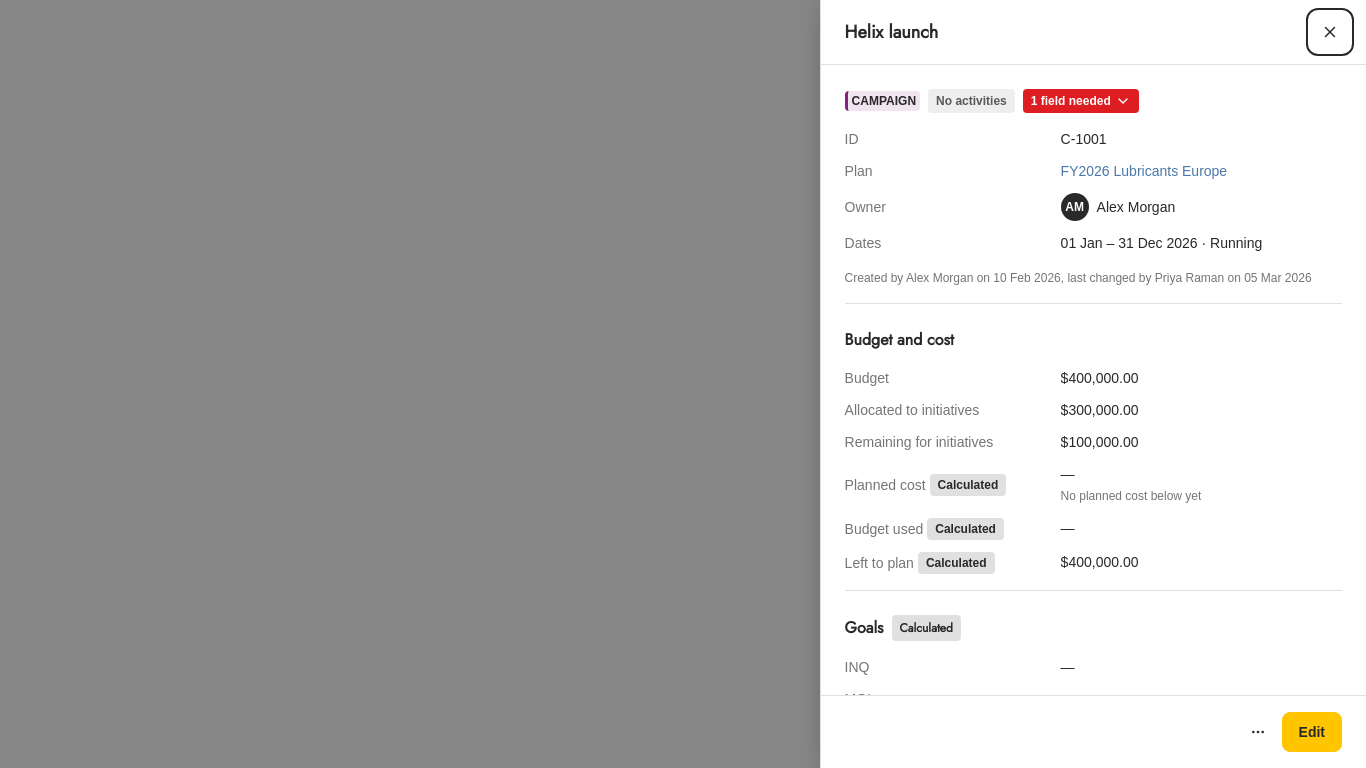
CampaignPanel — details (feature 005, US3) › links a needed field to the edit form with that field focused (FR-014)
Step 1. Click the button "1 field needed" → [1081, 101], box [1023,89,1139,113]
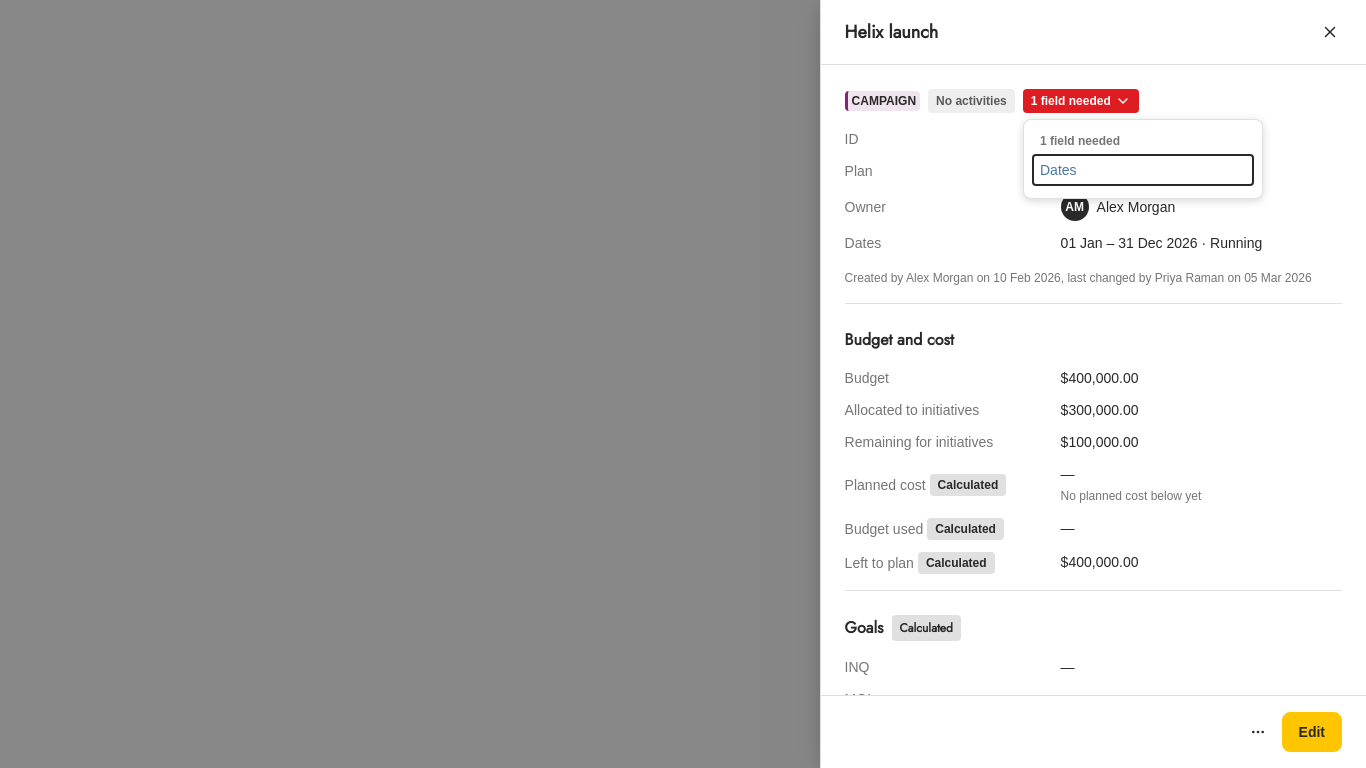
Step 2. Click the button "Dates" → [1143, 170], box [1032,154,1254,186]
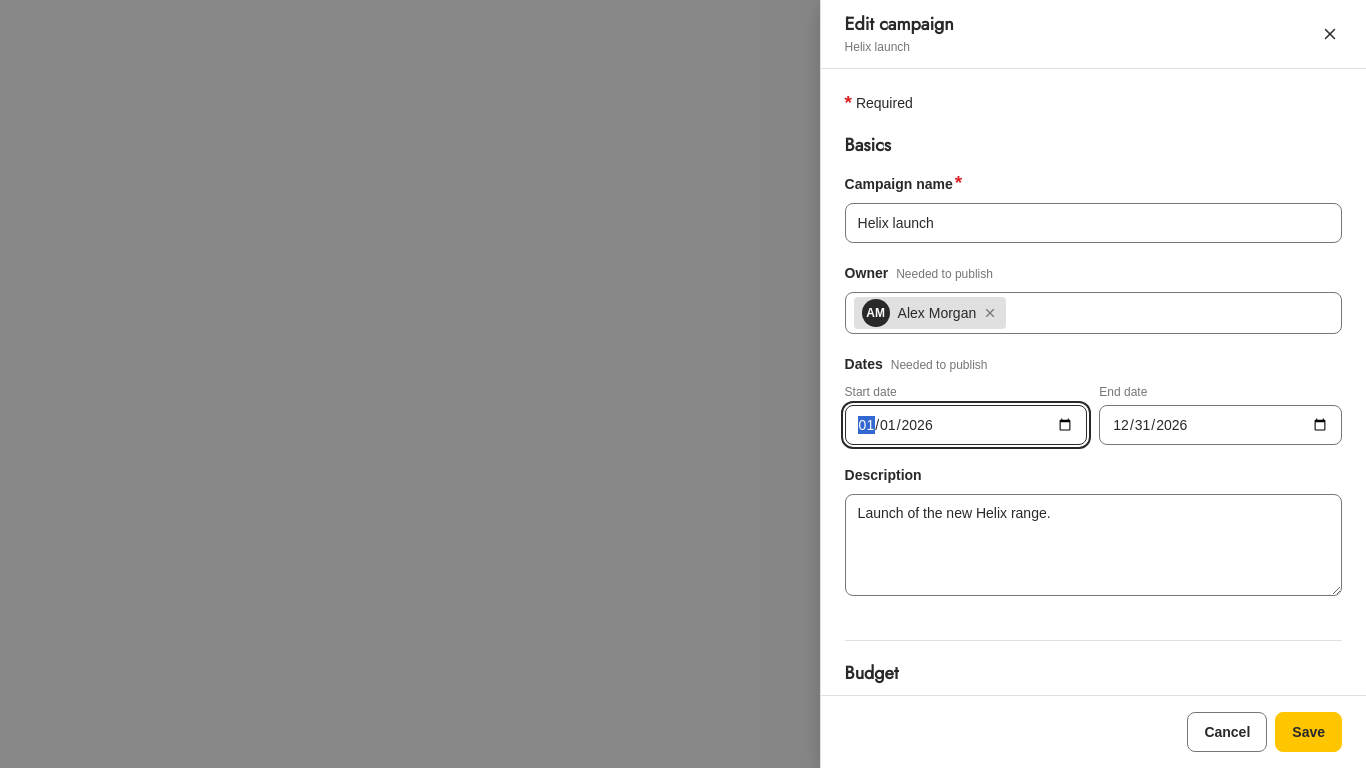
expect the text "Alex Morgan" is shown: met, box [898,302,976,324]
expect the field labelled "Campaign name" is shown: met, box [845,203,1342,243]
